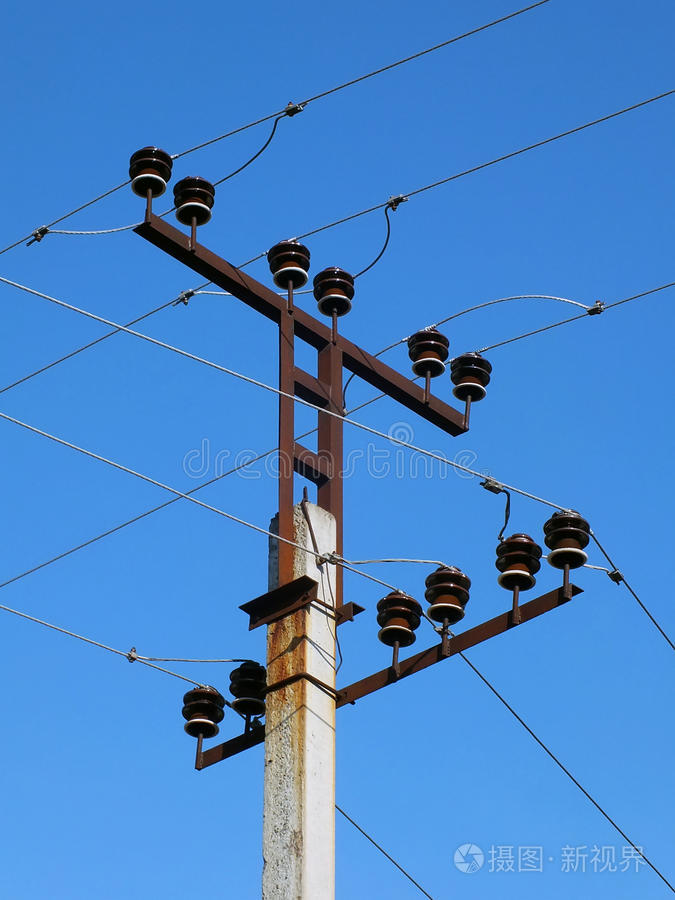insulator: (539, 510, 599, 569), (371, 589, 425, 646), (424, 569, 474, 625), (491, 538, 541, 589), (171, 176, 222, 225), (180, 683, 226, 737), (227, 665, 271, 715), (268, 240, 312, 288), (450, 350, 495, 396), (313, 270, 355, 318), (127, 148, 169, 195), (407, 328, 448, 373)
